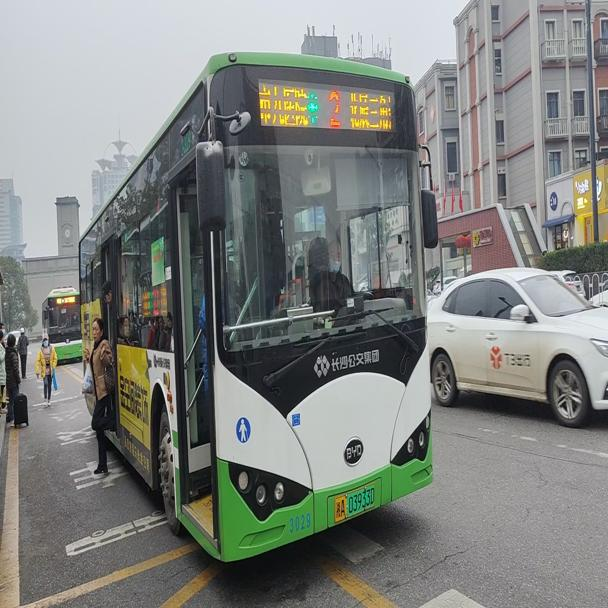bus: (78, 43, 439, 560), (40, 284, 81, 364)
screen: (321, 81, 347, 126)
